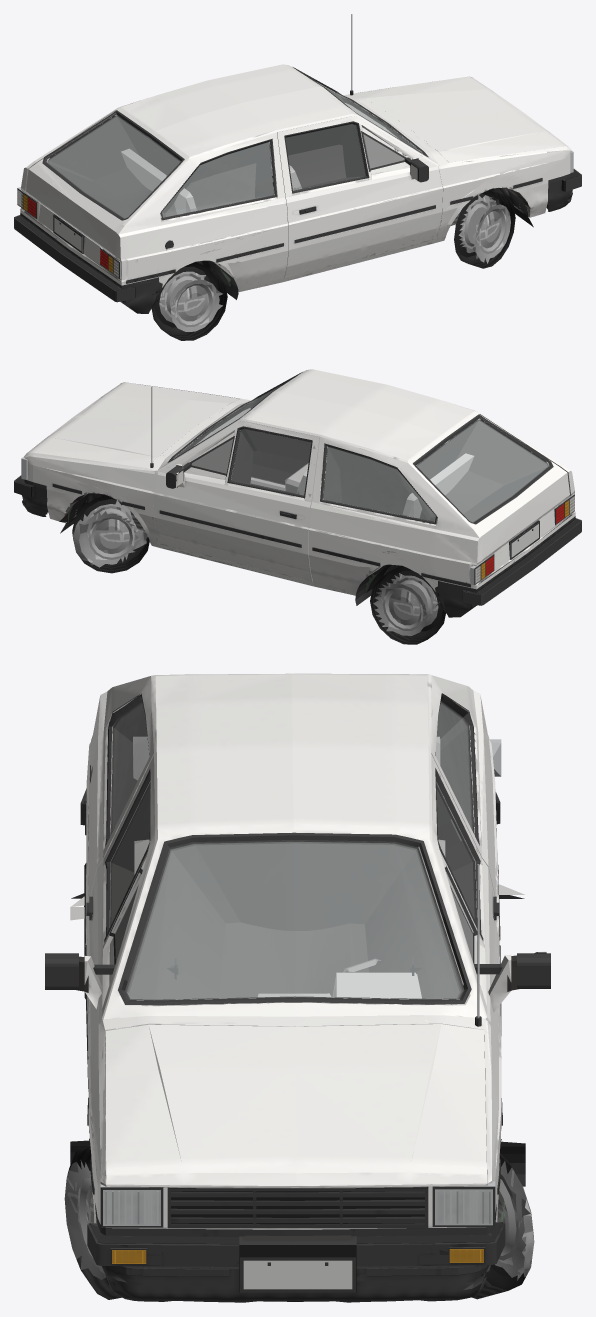
Rendered from gol-quadrado.glb.
3 renders of one model, top to bottom at view 1: azimuth 30°, elevation 25°; view 2: azimuth 150°, elevation 25°; view 3: azimuth 270°, elevation 25°, orthographic. The views are drawn at different scales.
Visible parts, largest first — view 1: body, door_fr, hood, glass_rear, trunk, fender_front_right, glass_door_rr, glass_door_fr, bumper_rear, wheel_rr_rim, wheel_fr_rim, wheel_rr_tire (+4 smaller); view 2: body, door_fl, hood, glass_rear, trunk, fender_front_left, glass_door_rl, glass_door_fl, wheel_fl_rim, bumper_rear, wheel_rl_rim, wheel_rl_tire (+7 smaller); view 3: body, hood, glass_windshield, bumper_front, grille, plate_front, door_fr, door_fl, wheel_fl_rim, glass_door_rr, fender_front_right, glass_door_rl (+10 smaller).
Boxes of the visible parts, box(x1,y1,x2,y2) form: body: box(20, 14, 570, 302); door_fr: box(284, 121, 442, 277); hood: box(354, 76, 571, 163); glass_rear: box(47, 116, 179, 218); trunk: box(26, 110, 191, 256); fender_front_right: box(423, 147, 548, 242); glass_door_rr: box(162, 142, 273, 217); glass_door_fr: box(286, 124, 365, 190); bumper_rear: box(14, 211, 159, 313); wheel_rr_rim: box(159, 271, 222, 331); wheel_fr_rim: box(451, 195, 510, 263); wheel_rr_tire: box(151, 260, 230, 340); body: box(24, 369, 575, 606); door_fl: box(153, 426, 312, 581); hood: box(24, 382, 240, 472); glass_rear: box(417, 420, 549, 522); trunk: box(408, 414, 569, 560); fender_front_left: box(46, 454, 170, 547); glass_door_rl: box(323, 446, 435, 521); glass_door_fl: box(231, 429, 310, 495); wheel_fl_rim: box(73, 500, 147, 567); bumper_rear: box(437, 515, 581, 617); wheel_rl_rim: box(373, 573, 438, 635); wheel_rl_tire: box(365, 564, 445, 644); body: box(70, 673, 546, 1265); hood: box(103, 1023, 492, 1187); glass_windshield: box(125, 840, 463, 999); bumper_front: box(87, 1203, 505, 1302); grille: box(167, 1187, 428, 1228); plate_front: box(239, 1236, 356, 1292); door_fr: box(85, 769, 150, 1088); door_fl: box(435, 768, 501, 1058); wheel_fl_rim: box(495, 1161, 534, 1280); glass_door_rr: box(111, 702, 149, 833); fender_front_right: box(87, 1011, 171, 1223); glass_door_rl: box(435, 701, 473, 832).
Bounding box in the file's own units: 3.82 × 1.49 × 1.77.
Materials: 13 (9 with a texture image).
